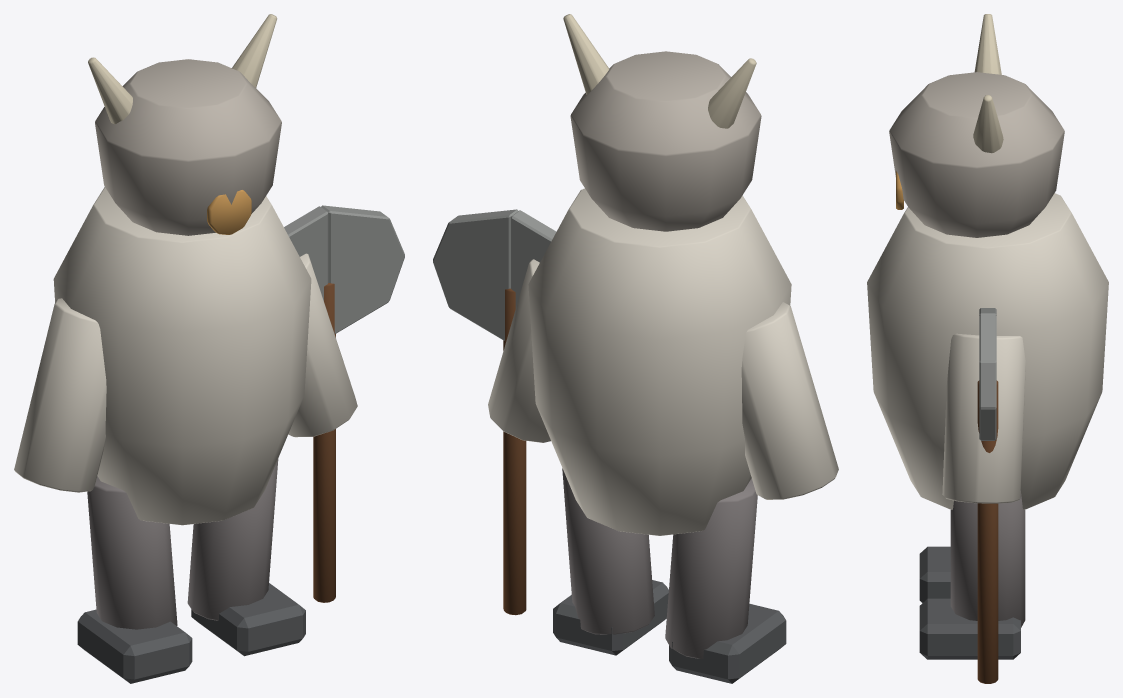
Rendered from boss_marble_minotaur.glb.
The picture shows the model from 3 angles, left to right: view 1: azimuth 30°, elevation 25°; view 2: azimuth 150°, elevation 25°; view 3: azimuth 270°, elevation 25°; orthographic projection. The views are drawn at different scales.
Parts seen in each view (by area): view 1: BOSS__marble_body, BOSS__bull_head, BOSS__arm.001, BOSS__leg.001, BOSS__leg, BOSS__labrys_blade.001, BOSS__arm, BOSS__hoof.001, BOSS__hoof, BOSS__labrys, BOSS__labrys_blade, BOSS__nose_ring (+2 smaller); view 2: BOSS__marble_body, BOSS__bull_head, BOSS__arm.001, BOSS__leg.001, BOSS__leg, BOSS__labrys_blade.001, BOSS__arm, BOSS__labrys, BOSS__hoof.001, BOSS__hoof, BOSS__labrys_blade, BOSS__horn.001 (+1 smaller); view 3: BOSS__marble_body, BOSS__bull_head, BOSS__arm, BOSS__leg, BOSS__labrys, BOSS__hoof, BOSS__labrys_blade.001, BOSS__hoof.001, BOSS__horn, BOSS__horn.001.
Boxes of the visible parts, x1,y1,x2,y2 form: BOSS__marble_body: (53, 187, 311, 525); BOSS__bull_head: (95, 59, 281, 235); BOSS__arm.001: (14, 298, 106, 492); BOSS__leg.001: (87, 476, 177, 629); BOSS__leg: (187, 459, 278, 620); BOSS__labrys_blade.001: (321, 205, 404, 333); BOSS__arm: (288, 253, 357, 437); BOSS__hoof.001: (77, 609, 192, 683); BOSS__hoof: (191, 583, 305, 656); BOSS__labrys: (313, 283, 335, 602); BOSS__labrys_blade: (284, 206, 328, 300); BOSS__nose_ring: (207, 190, 251, 234); BOSS__marble_body: (528, 188, 791, 535); BOSS__bull_head: (570, 51, 761, 231); BOSS__arm.001: (741, 302, 838, 499); BOSS__leg.001: (665, 478, 757, 658); BOSS__leg: (562, 468, 654, 634); BOSS__labrys_blade.001: (433, 209, 518, 340); BOSS__arm: (488, 259, 550, 442); BOSS__labrys: (503, 288, 526, 615); BOSS__hoof.001: (669, 603, 786, 683); BOSS__hoof: (553, 580, 668, 655); BOSS__labrys_blade: (511, 210, 556, 308); BOSS__horn.001: (708, 58, 756, 128); BOSS__marble_body: (867, 193, 1108, 509); BOSS__bull_head: (889, 72, 1064, 237); BOSS__arm: (942, 333, 1025, 503); BOSS__leg: (950, 491, 1025, 627); BOSS__labrys: (977, 380, 998, 683); BOSS__hoof: (919, 598, 1020, 659); BOSS__labrys_blade.001: (979, 314, 996, 440); BOSS__hoof.001: (919, 546, 950, 602); BOSS__horn: (973, 95, 1003, 153); BOSS__horn.001: (974, 14, 1001, 74).
Size of the model in its own units: 1.89 by 2.84 by 1.1.
